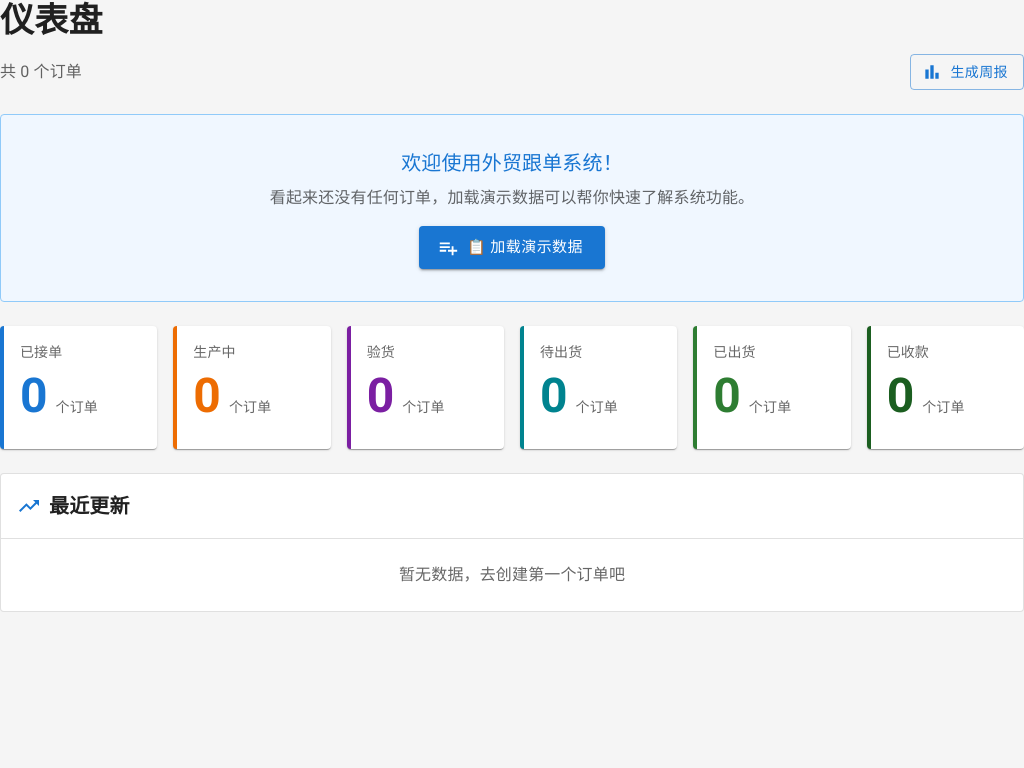
Test: Dashboard 周报一键生成 › AC-1 时间范围选择 › 切换到「本月」后，本月为选中态，本周取消
Click the button "生成周报". click: (967,72)
box: [910,54,1023,90]
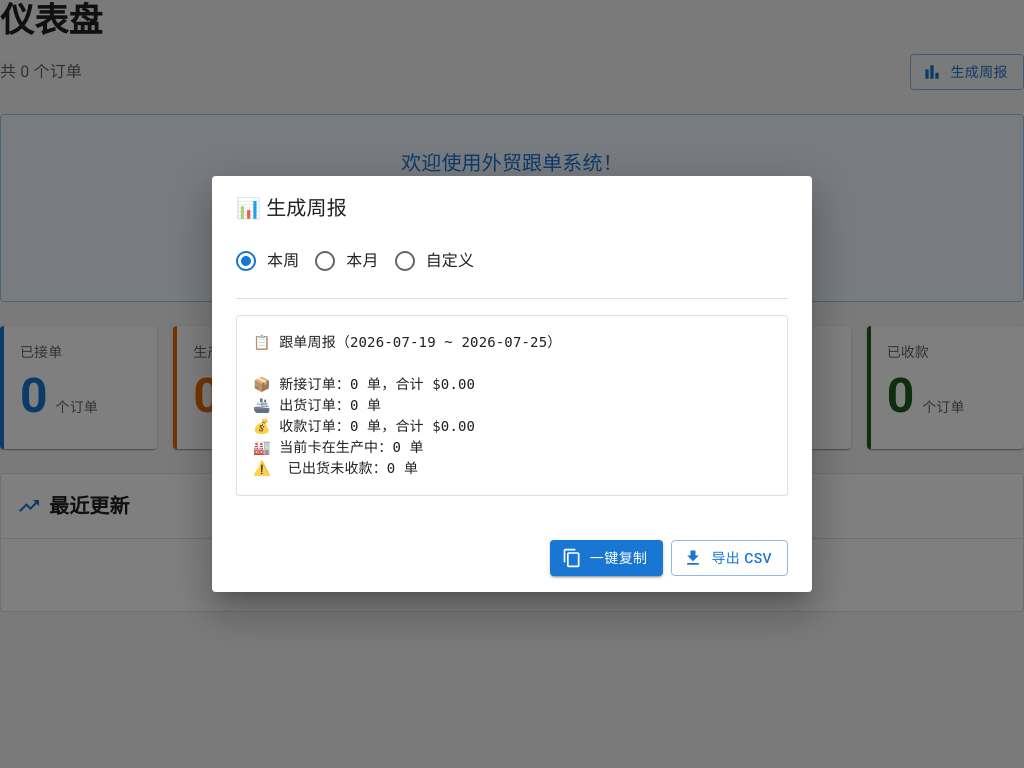
Click the radio button labelled "本月". click: (346,261)
box: [313,249,379,273]
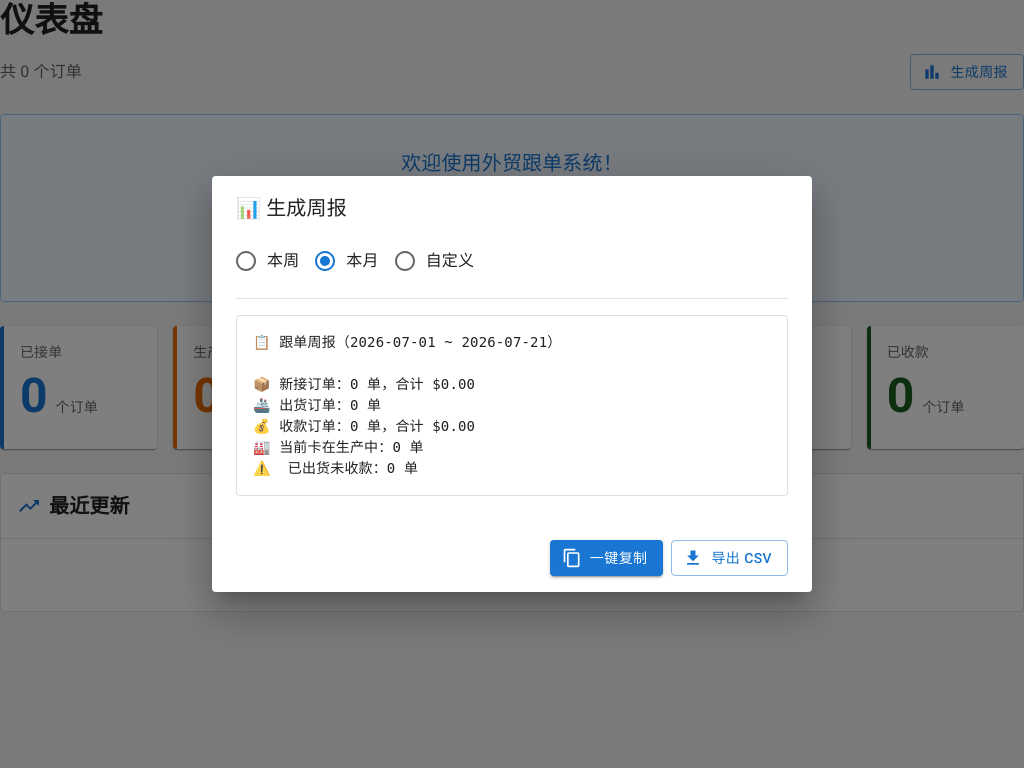
Expected: the radio button labelled "本月" is checked, [313,249,379,273]
Expected: the radio button labelled "本周" is not checked, [234,249,299,273]
